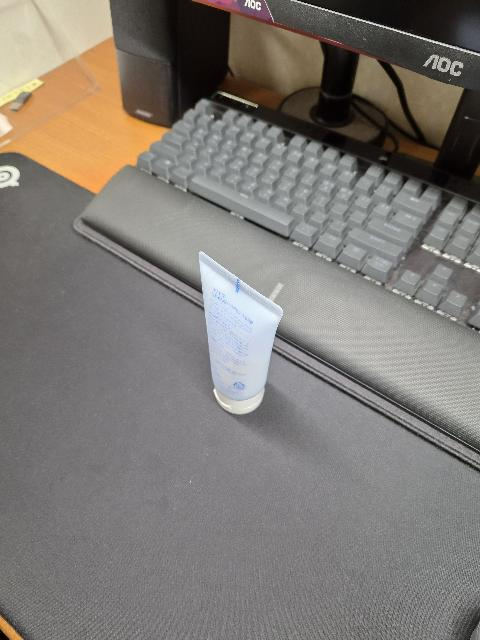handcream: (199, 251, 283, 415)
